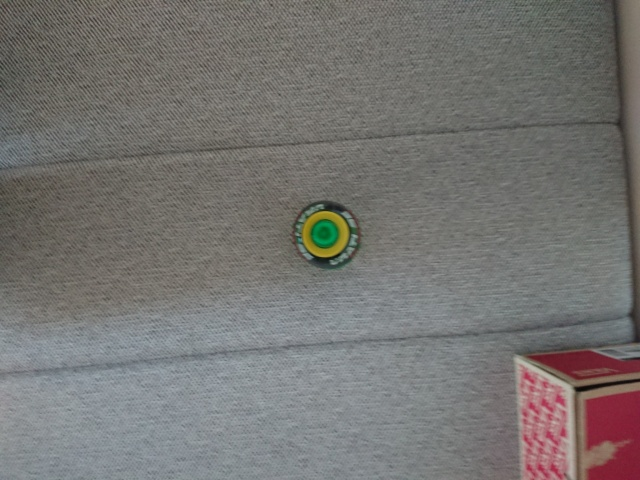Vindi Iso Sport Lemon-Grapefruit 500mL: (289, 198, 363, 272)
